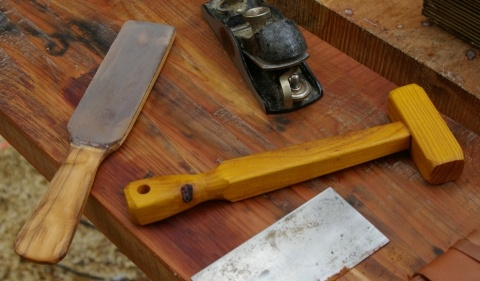hammer: (123, 81, 466, 227)
